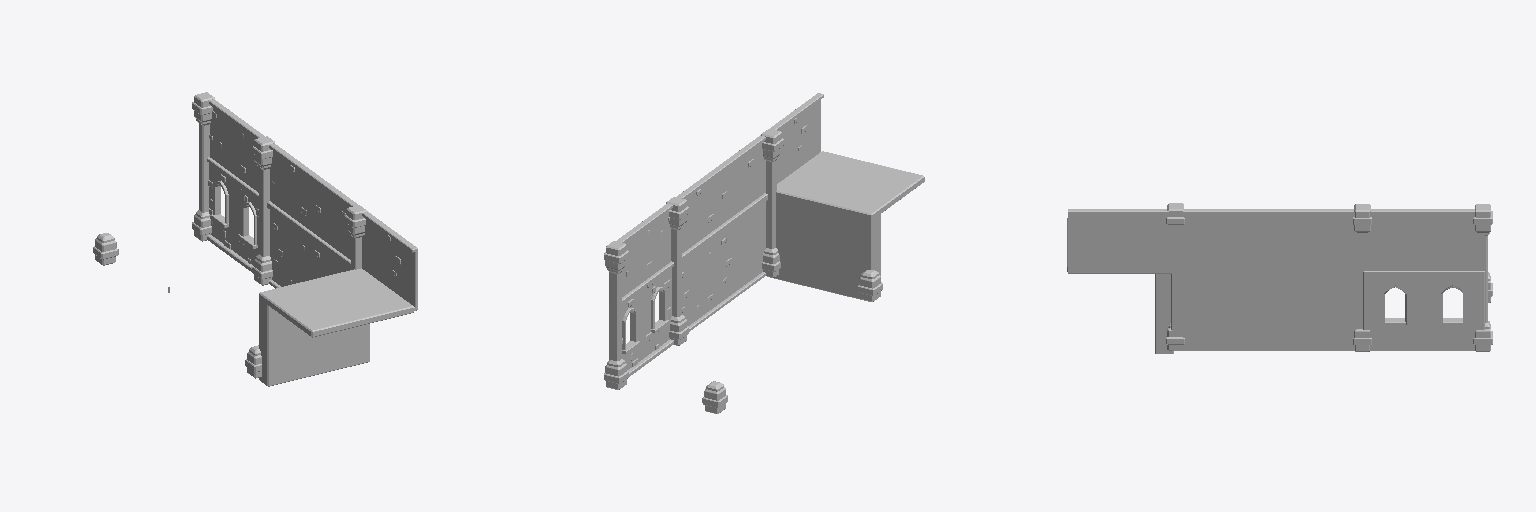
File: wallShroom.obj
3 views of the same model, side by side, from view 1: azimuth 30°, elevation 25°; view 2: azimuth 150°, elevation 25°; view 3: azimuth 270°, elevation 25° (orthographic).
Parts seen in each view (by area): view 1: wallShrooms; view 2: wallShrooms; view 3: wallShrooms.
Part boxes in pixels (left/top/right/bottom): wallShrooms: left=93, top=92, right=417, bottom=386; wallShrooms: left=604, top=93, right=924, bottom=413; wallShrooms: left=1067, top=203, right=1492, bottom=353.
Size of the model in its own units: 55.3 by 66.06 by 174.